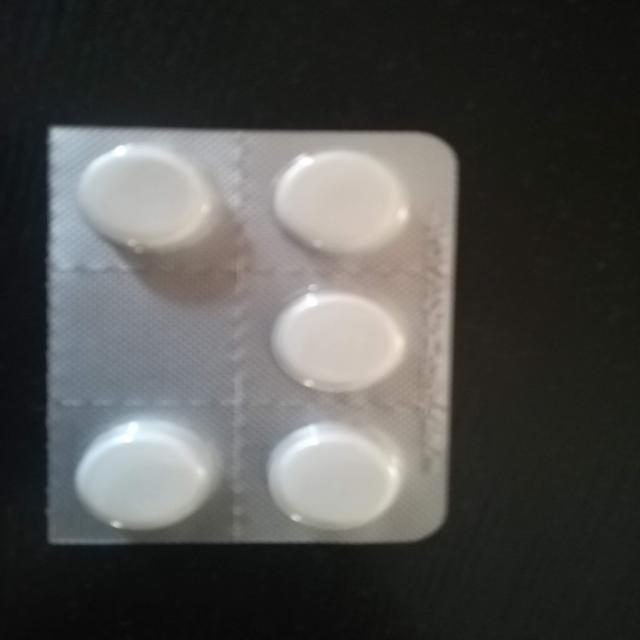Pill: (52, 142, 224, 256), (260, 278, 424, 395), (256, 416, 411, 539), (71, 412, 217, 536), (258, 147, 419, 255)
